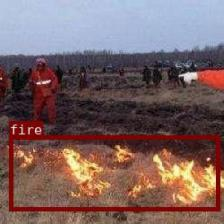fire: (8, 135, 219, 210)
